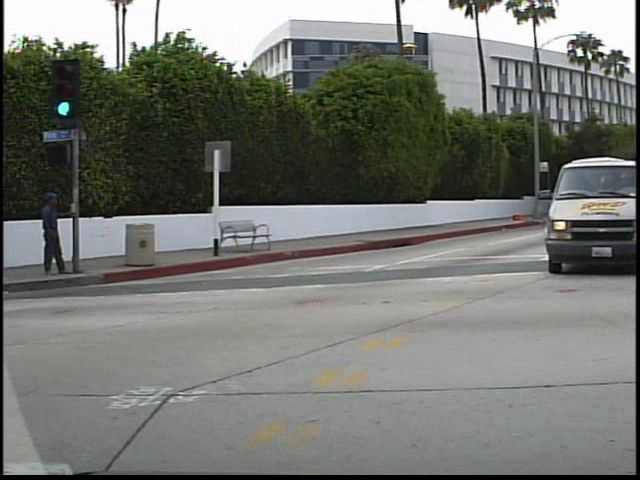person: (31, 186, 71, 281)
